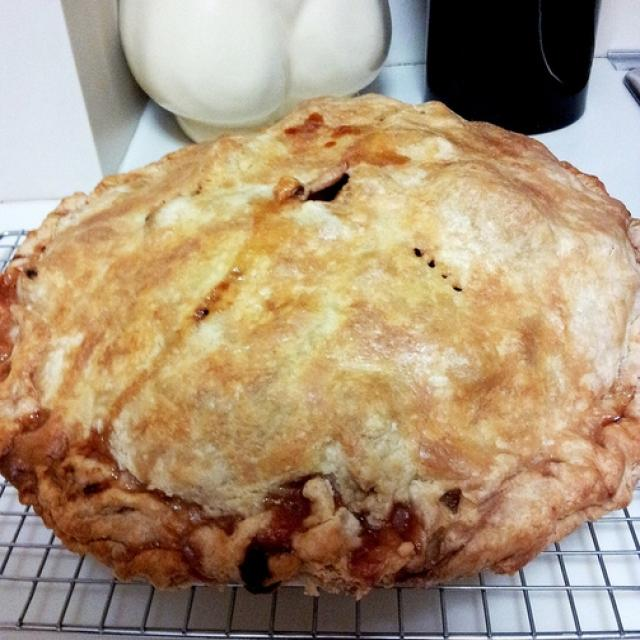炸货点心: (14, 80, 621, 600)
蛋糕甜品: (14, 80, 621, 600)
